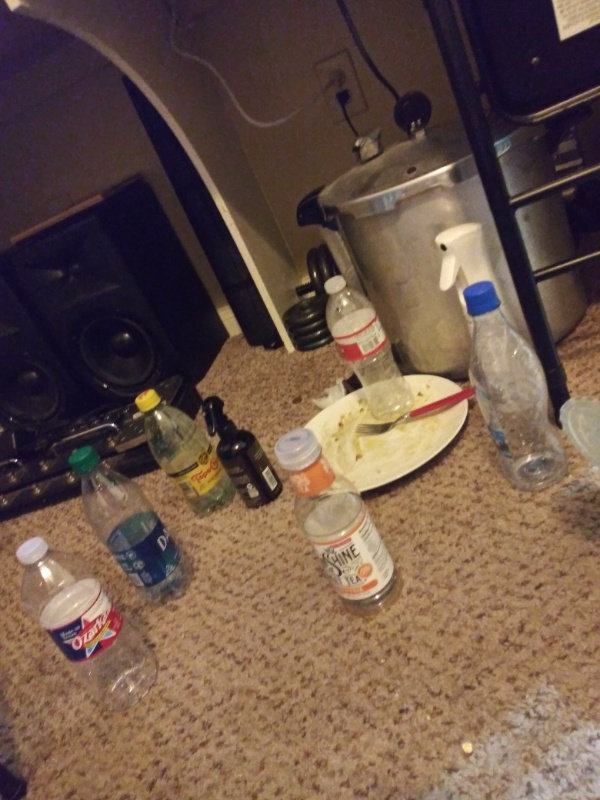bottle: (13, 535, 161, 716), (456, 281, 571, 493), (269, 426, 398, 611), (63, 439, 197, 601), (128, 379, 243, 520), (319, 271, 420, 424)
